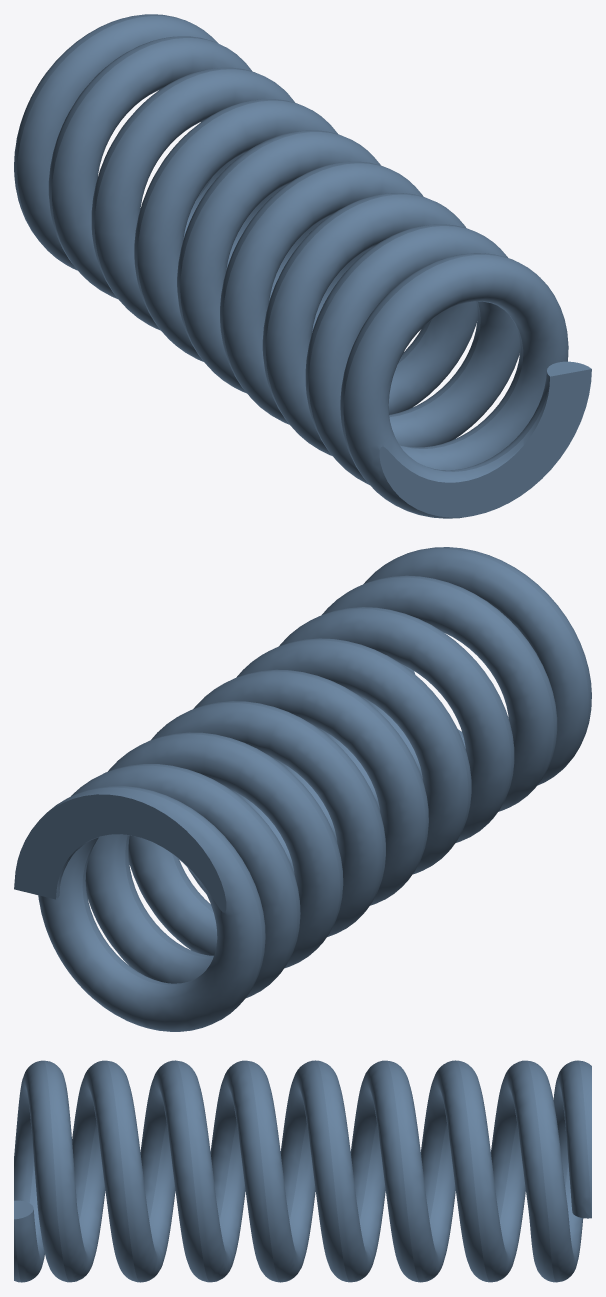
Rendered from spring.glb.
The picture shows the model from 3 angles, top to bottom: view 1: azimuth 30°, elevation 25°; view 2: azimuth 150°, elevation 25°; view 3: azimuth 270°, elevation 25°; orthographic projection. The views are drawn at different scales.
Bounding box in the file's own units: 12.3 × 12.3 × 32.
